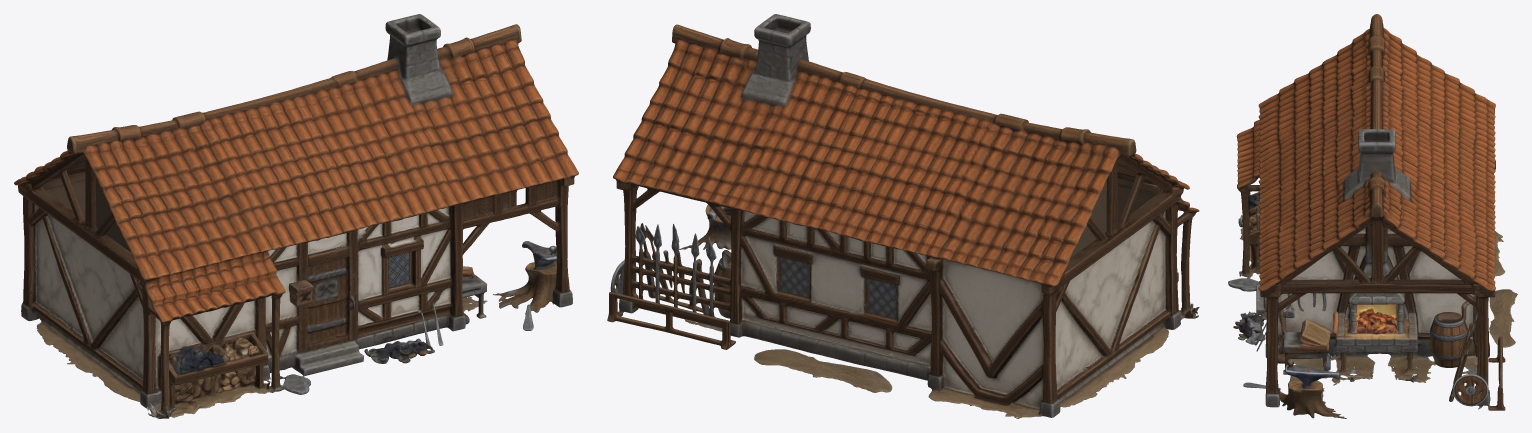
File: Smith.glb
3 views of the same model, side by side, from view 1: azimuth 30°, elevation 25°; view 2: azimuth 150°, elevation 25°; view 3: azimuth 270°, elevation 25° (orthographic). The views are drawn at different scales.
Size of the model in its own units: 1.9 by 1.04 by 1.17.
1 material, 1 textured.
